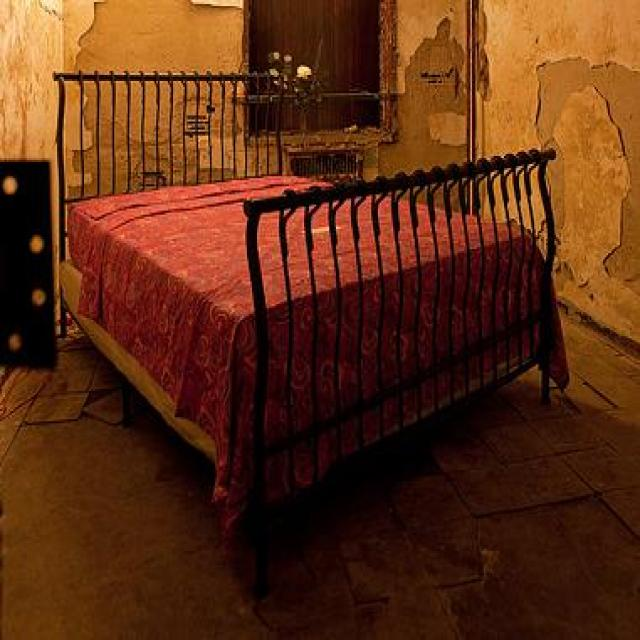bed: (57, 144, 565, 583)
